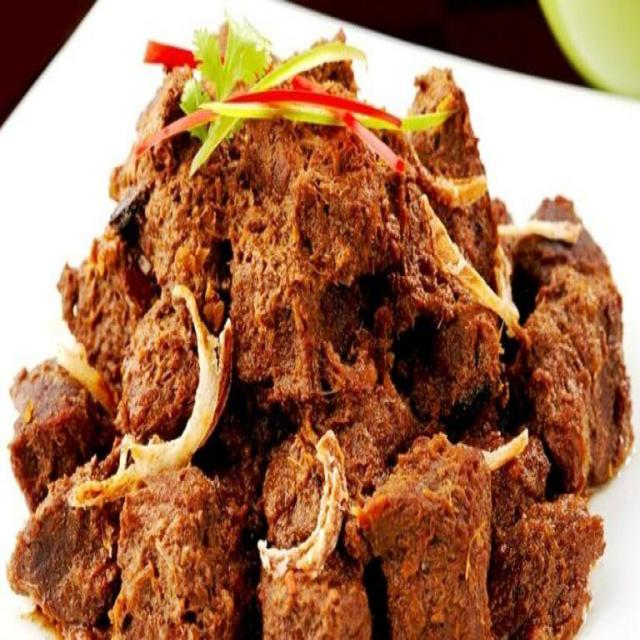Rendang: (6, 18, 640, 639)
